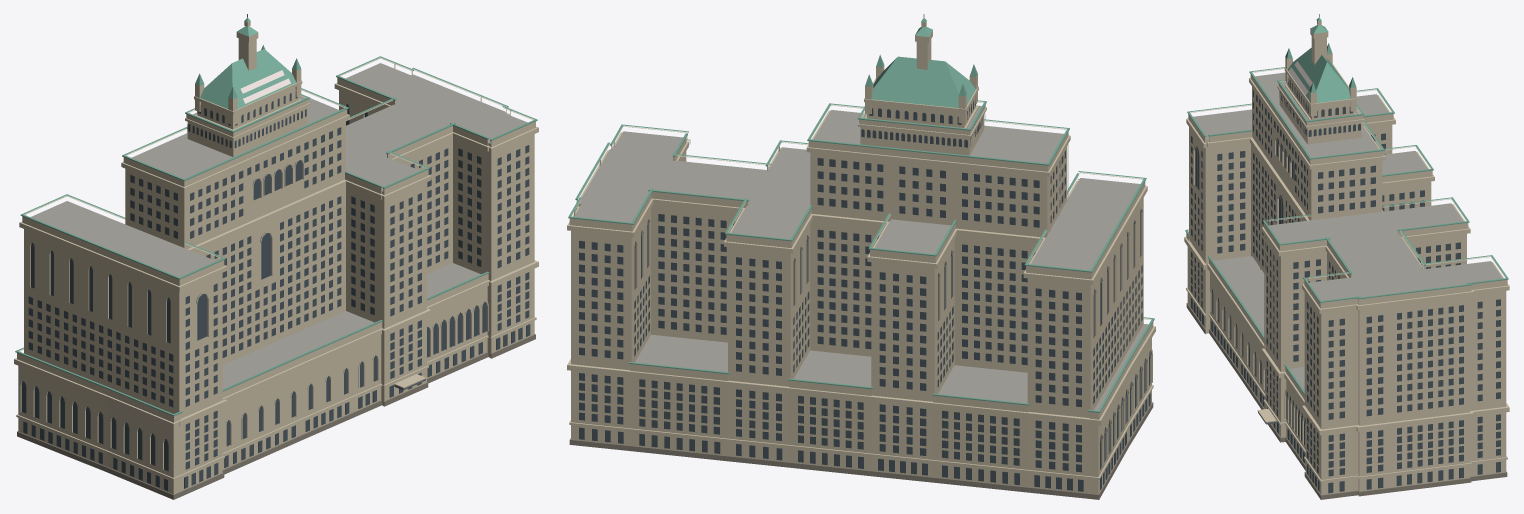
Rendered from fairmont-royal-york-far.glb.
The picture shows the model from 3 angles, left to right: view 1: azimuth 30°, elevation 25°; view 2: azimuth 150°, elevation 25°; view 3: azimuth 270°, elevation 25°; orthographic projection. The views are drawn at different scales.
Parts seen in each view (by area): view 1: fairmont-royal-york-0-limestone, fairmont-royal-york-0-glass, fairmont-royal-york-0-roof, fairmont-royal-york-0-copper, fairmont-royal-york-0-glow, fairmont-royal-york-0-plinth, fairmont-royal-york-0-sign; view 2: fairmont-royal-york-0-limestone, fairmont-royal-york-0-roof, fairmont-royal-york-0-glass, fairmont-royal-york-0-glow, fairmont-royal-york-0-copper, fairmont-royal-york-0-plinth; view 3: fairmont-royal-york-0-limestone, fairmont-royal-york-0-roof, fairmont-royal-york-0-glass, fairmont-royal-york-0-copper, fairmont-royal-york-0-glow, fairmont-royal-york-0-plinth.
Boxes of the visible parts, x1,y1,x2,y2 form: fairmont-royal-york-0-limestone: [14, 21, 538, 494]; fairmont-royal-york-0-glass: [21, 91, 530, 490]; fairmont-royal-york-0-roof: [30, 63, 527, 388]; fairmont-royal-york-0-copper: [15, 17, 537, 416]; fairmont-royal-york-0-glow: [37, 131, 529, 465]; fairmont-royal-york-0-plinth: [17, 334, 535, 499]; fairmont-royal-york-0-sign: [240, 70, 290, 103]; fairmont-royal-york-0-limestone: [567, 22, 1155, 494]; fairmont-royal-york-0-roof: [574, 105, 1148, 410]; fairmont-royal-york-0-glass: [579, 100, 1150, 491]; fairmont-royal-york-0-glow: [579, 150, 1139, 472]; fairmont-royal-york-0-copper: [568, 18, 1154, 412]; fairmont-royal-york-0-plinth: [569, 402, 1153, 499]; fairmont-royal-york-0-limestone: [1184, 21, 1509, 494]; fairmont-royal-york-0-roof: [1193, 72, 1502, 390]; fairmont-royal-york-0-glass: [1191, 78, 1500, 493]; fairmont-royal-york-0-copper: [1185, 17, 1508, 394]; fairmont-royal-york-0-glow: [1191, 95, 1500, 473]; fairmont-royal-york-0-plinth: [1186, 303, 1507, 499].
Bounding box in the file's own units: 162 × 124 × 102.
